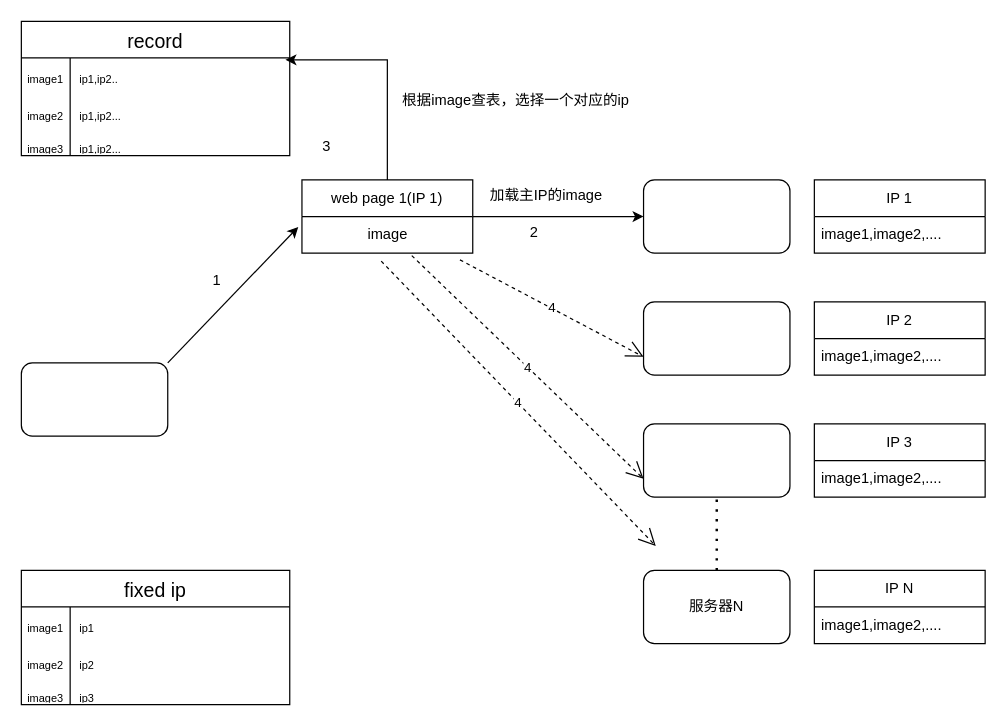
This 1007x726 diagram has some shape labels left out. The shapes that lost their labels are listed below. From the top down, each one's centre as x and y in pixels, then its label:
At point (716, 216): "服务器1".
At point (716, 338): "服务器2".
At point (94, 399): "客户端".
At point (716, 460): "服务器3".
